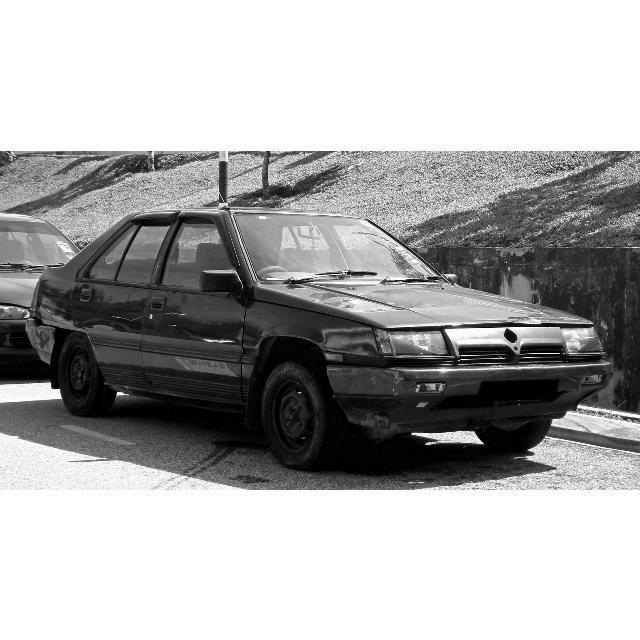doorouter-dent: (148, 296, 246, 364), (79, 286, 140, 374)
fender-dent: (274, 305, 378, 365)
